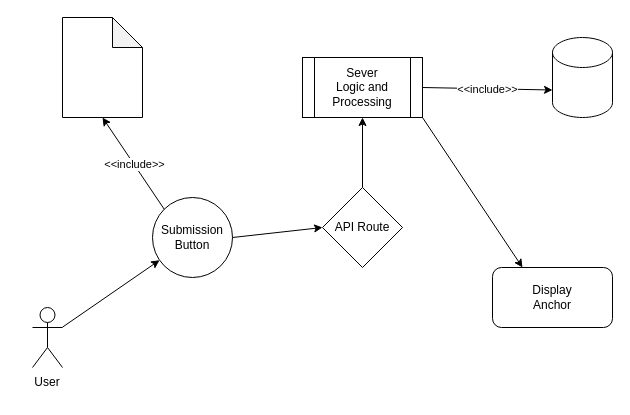
The diagram is 630 pixels wide and 415 high, and some of its shapes have lost their labels. Here are the shapes that lost their labels. From the top down, the centre of each, then its label:
At (x=102, y=67): "User Input Form".
At (x=582, y=77): "Superbase db".
